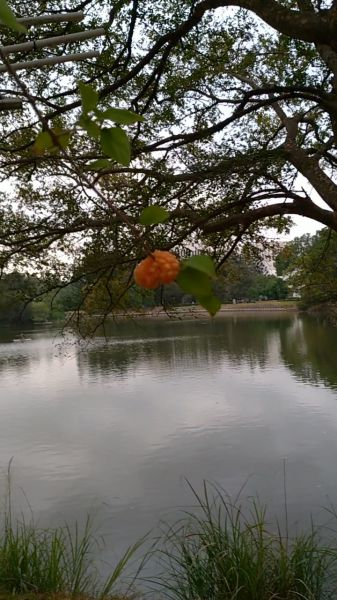eggs: (131, 247, 185, 292)
